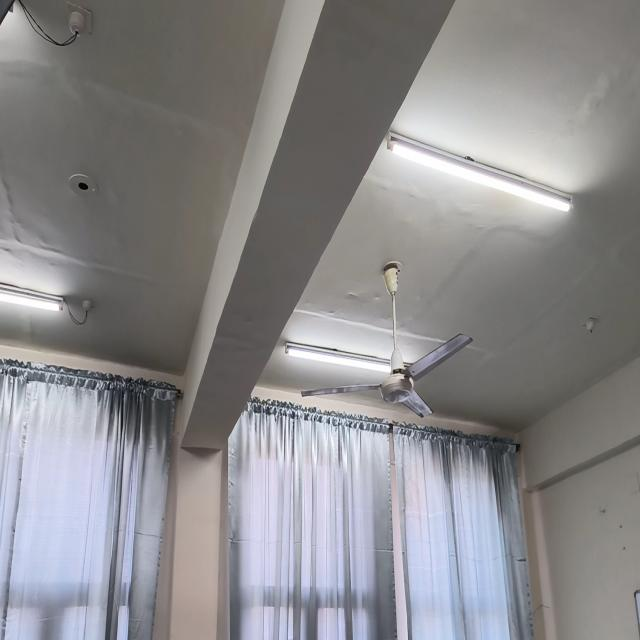Light: (386, 132, 572, 212), (285, 342, 390, 373), (0, 283, 64, 311)
